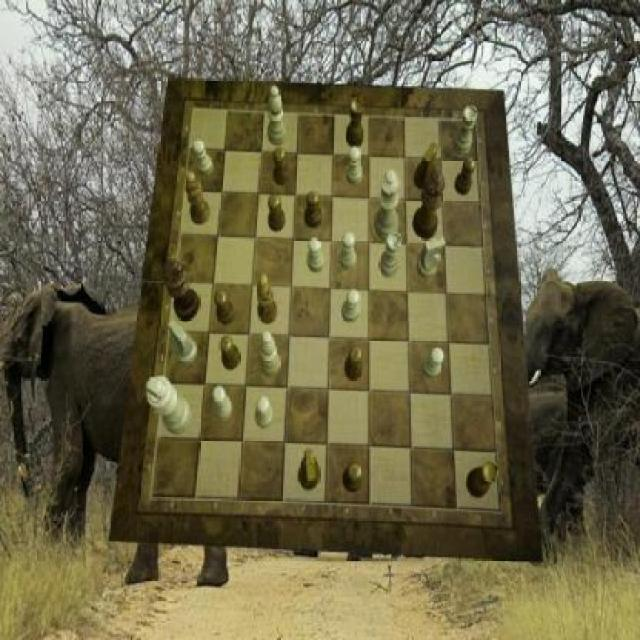bishop: (186, 171, 211, 225), (257, 274, 278, 324)
black-bishop: (164, 258, 200, 321)
black-king: (414, 143, 438, 191), (298, 449, 321, 491)
black-knight: (456, 157, 476, 195), (220, 335, 241, 370), (216, 290, 236, 326), (274, 148, 291, 186), (268, 194, 285, 231), (306, 191, 323, 228), (343, 462, 363, 492), (345, 345, 362, 379)
black-pawn: (412, 171, 446, 240)
black-queen: (466, 462, 499, 499), (346, 97, 364, 148)
black-rook: (266, 86, 286, 146), (260, 331, 281, 376)
white-bishop: (146, 377, 192, 435)
white-king: (168, 318, 198, 364), (417, 235, 445, 278)
white-knight: (194, 139, 214, 176), (422, 348, 444, 380), (212, 386, 232, 421), (339, 232, 356, 271), (348, 146, 364, 185), (256, 396, 274, 430), (342, 289, 359, 323), (308, 239, 324, 273)
white-pawn: (374, 169, 400, 240)
white-queen: (454, 106, 478, 156), (378, 232, 401, 278)
